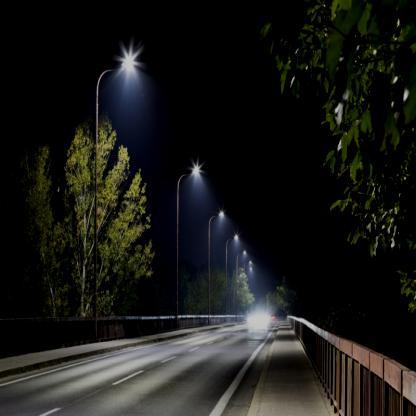light_pole: (94, 55, 135, 340), (175, 167, 200, 328), (207, 211, 225, 323), (225, 234, 239, 323), (237, 250, 247, 320), (243, 260, 252, 319)
